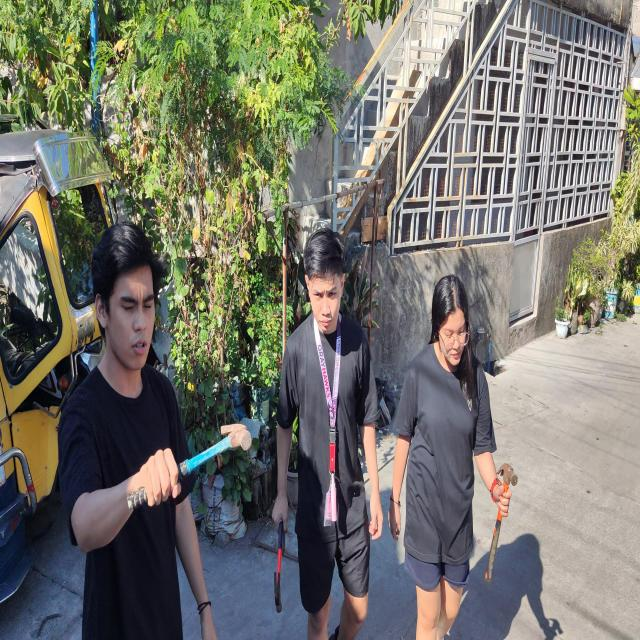hammer: (126, 423, 252, 509), (484, 462, 518, 585), (274, 520, 283, 612)
